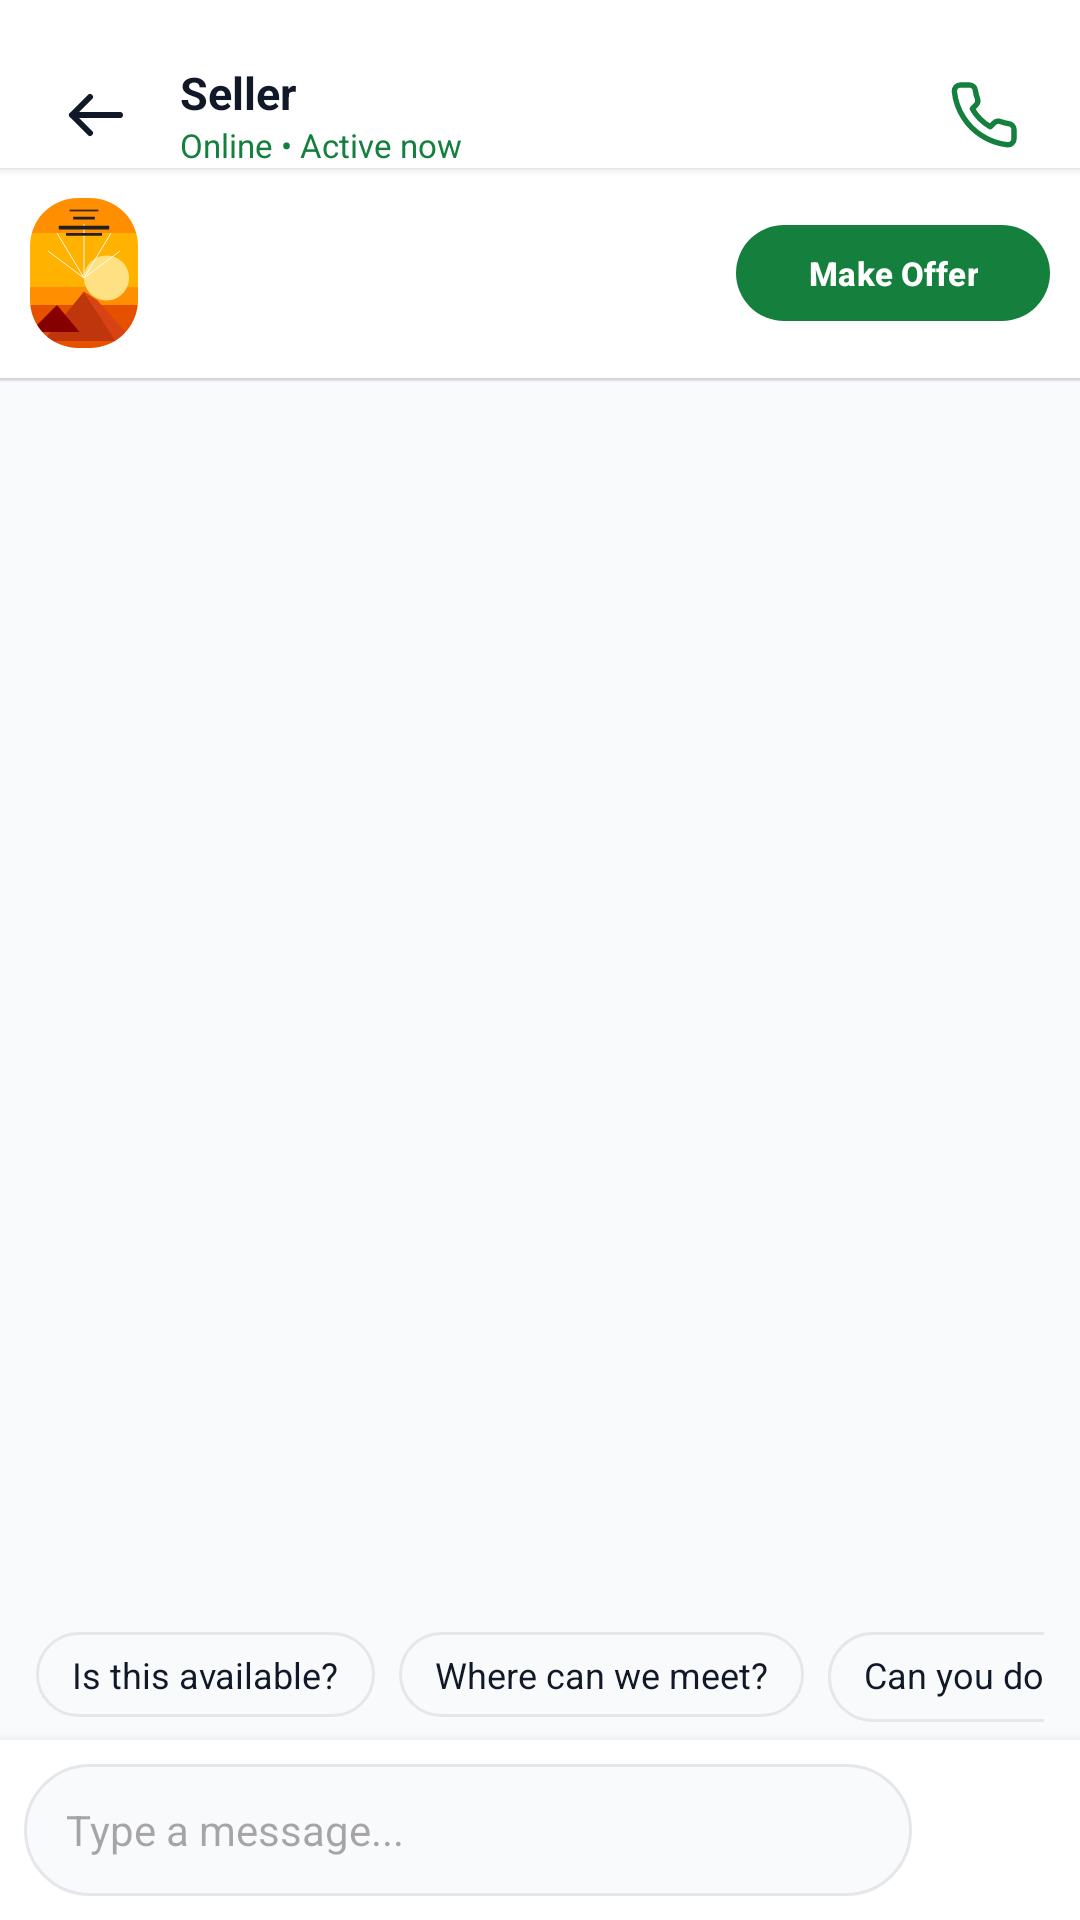

Screen size 1080w x 1920h. Icon name, then its center in pixels as [x,y]:
arrow back: [96,115]
call: [984,115]
